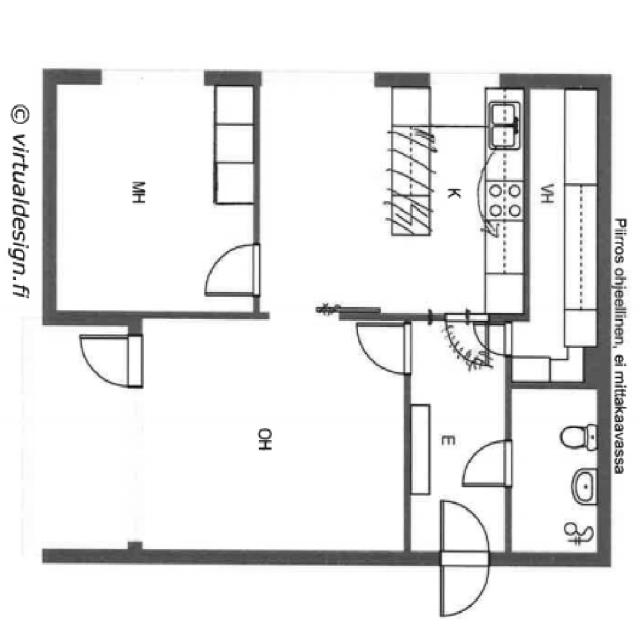door: (435, 494, 496, 620), (76, 328, 145, 394), (198, 234, 262, 297), (353, 318, 412, 379), (456, 434, 517, 488), (468, 313, 508, 359)
window: (94, 62, 210, 91), (268, 303, 332, 325)
zone: (248, 73, 525, 322), (137, 315, 408, 565), (46, 76, 260, 317), (385, 122, 524, 252), (505, 385, 604, 560)
